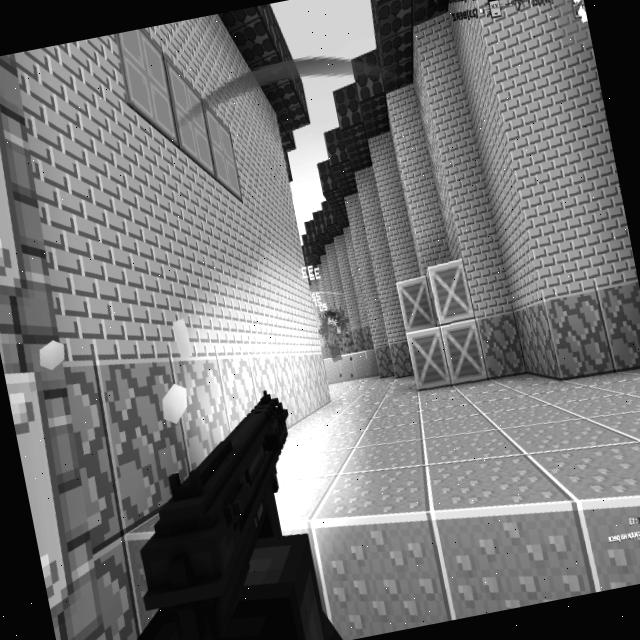Head: (326, 310, 340, 328)
Player: (321, 308, 348, 362)
